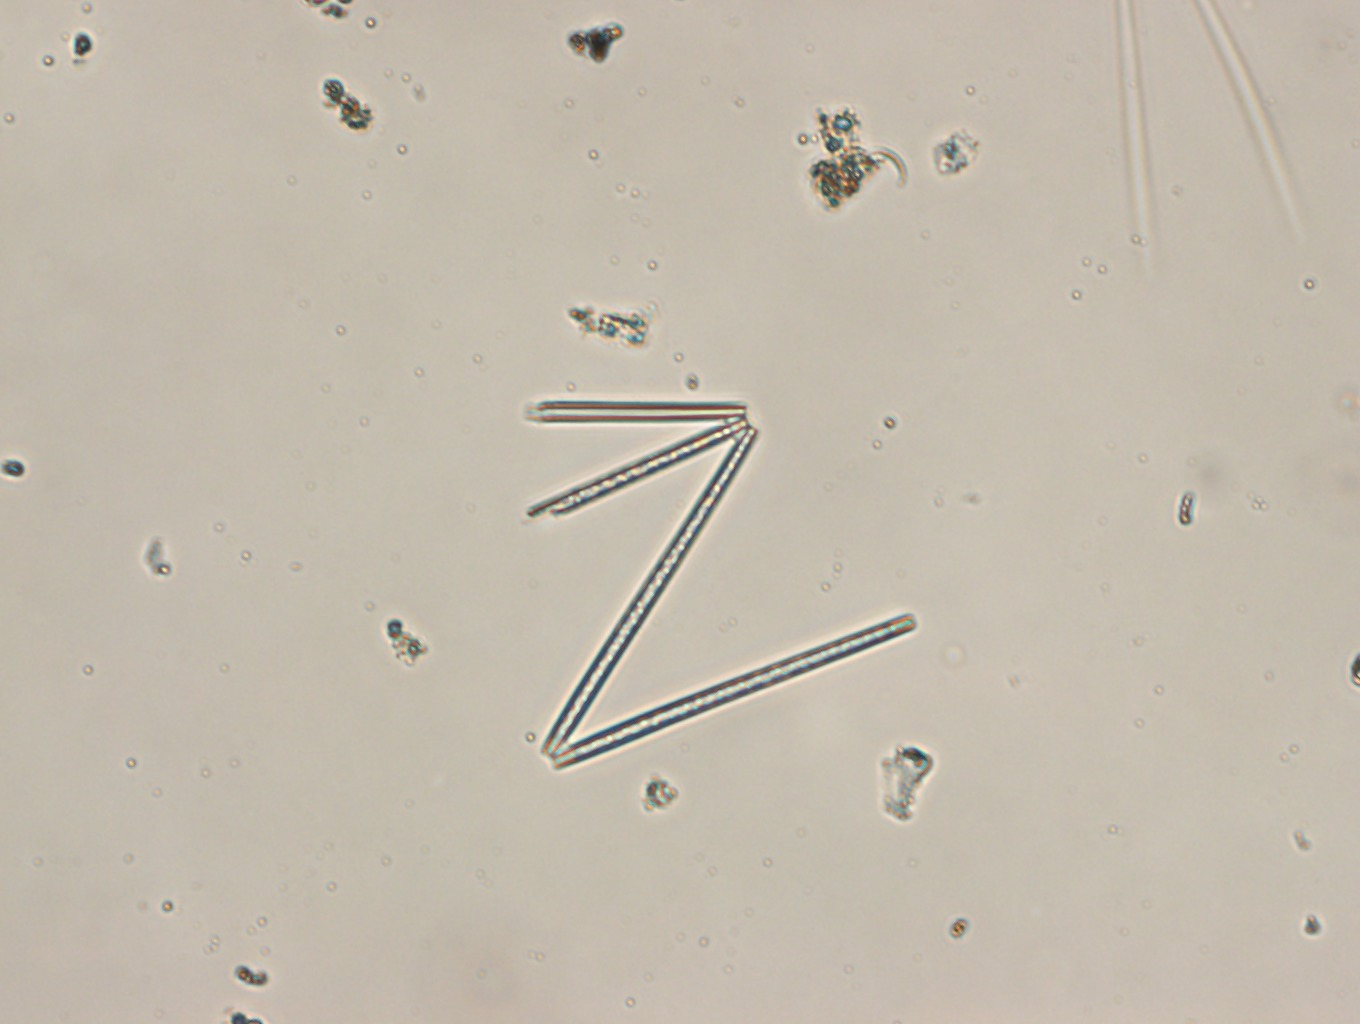thalassionema nitzschioides: (518, 399, 919, 769)
